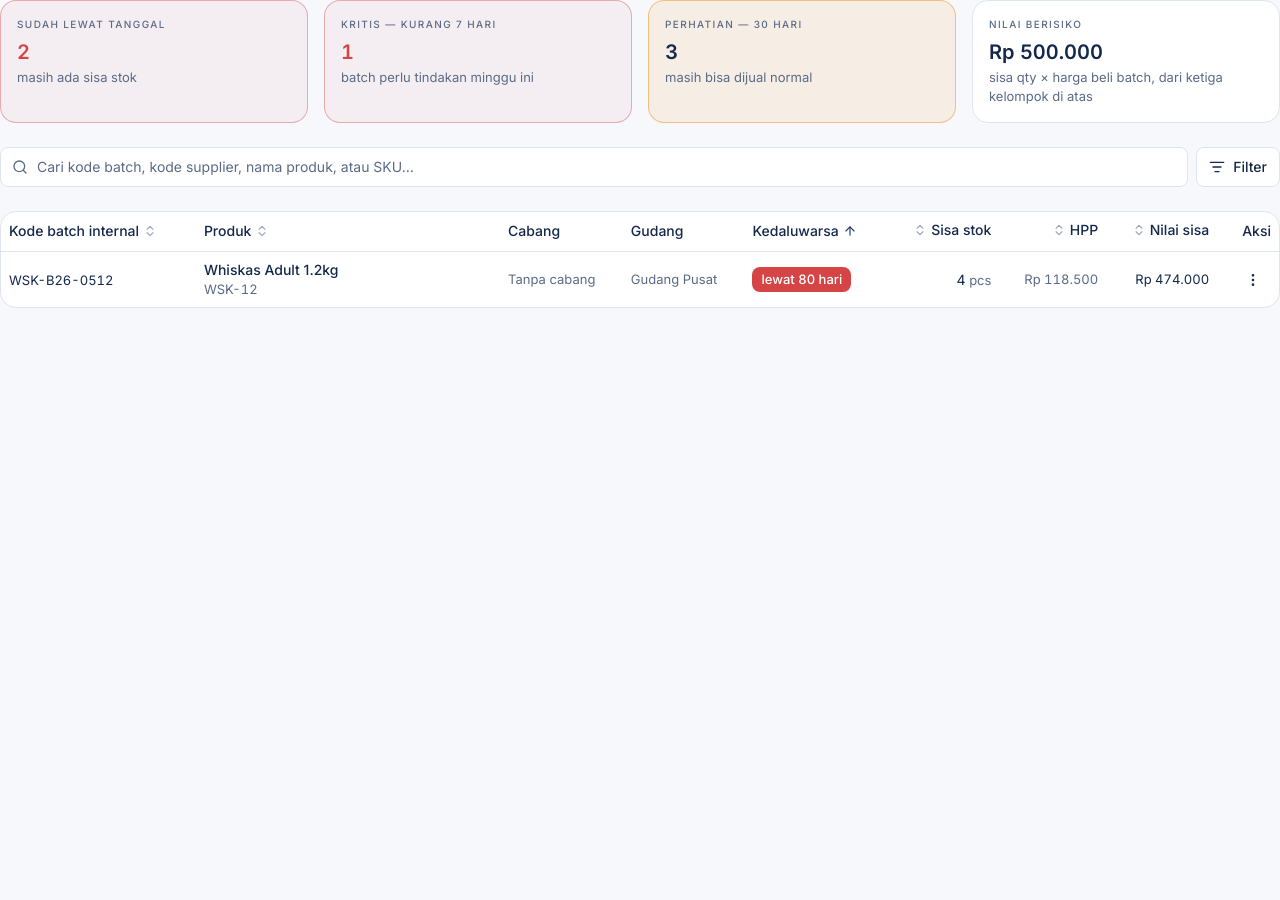
Test: BatchesScreen › the custom expiry range › says so rather than pretending an empty window narrowed anything
Click the button "Filter" at x=1238, y=167, box [1196, 147, 1279, 187]
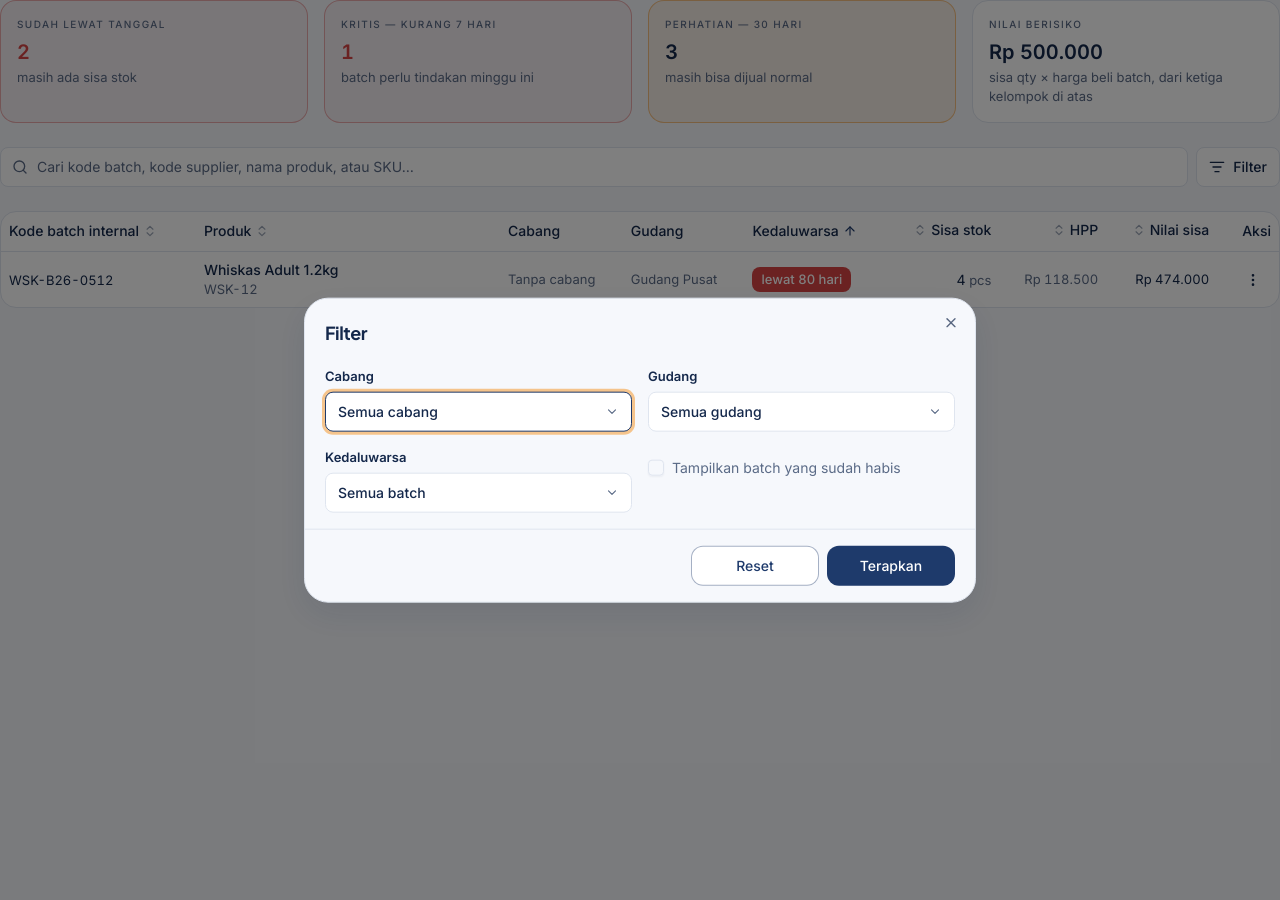
Click the button with aria-label "Rentang kedaluwarsa" at x=382, y=492, box [325, 472, 632, 512]
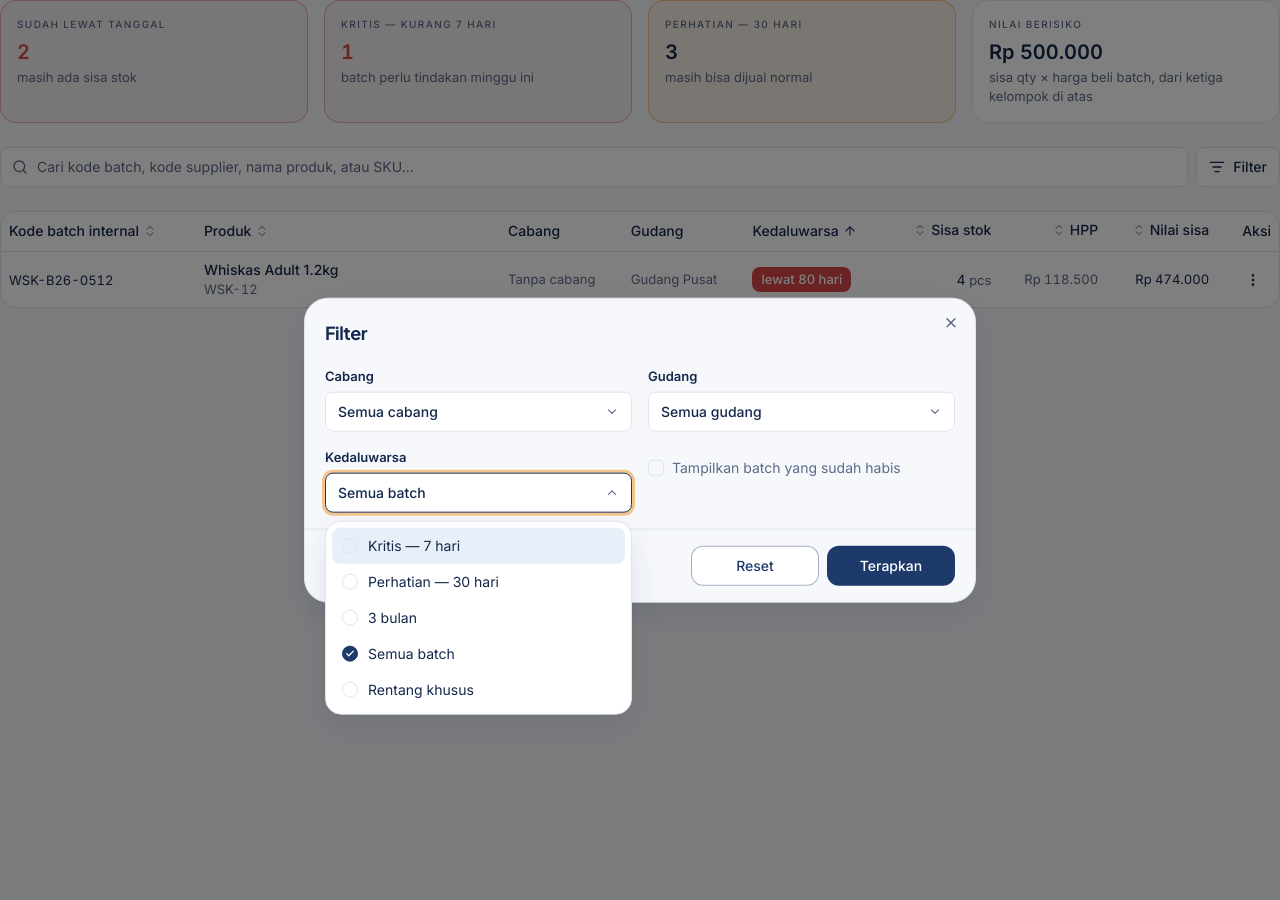
Click the option "Rentang khusus" at x=408, y=689, box [342, 681, 474, 698]
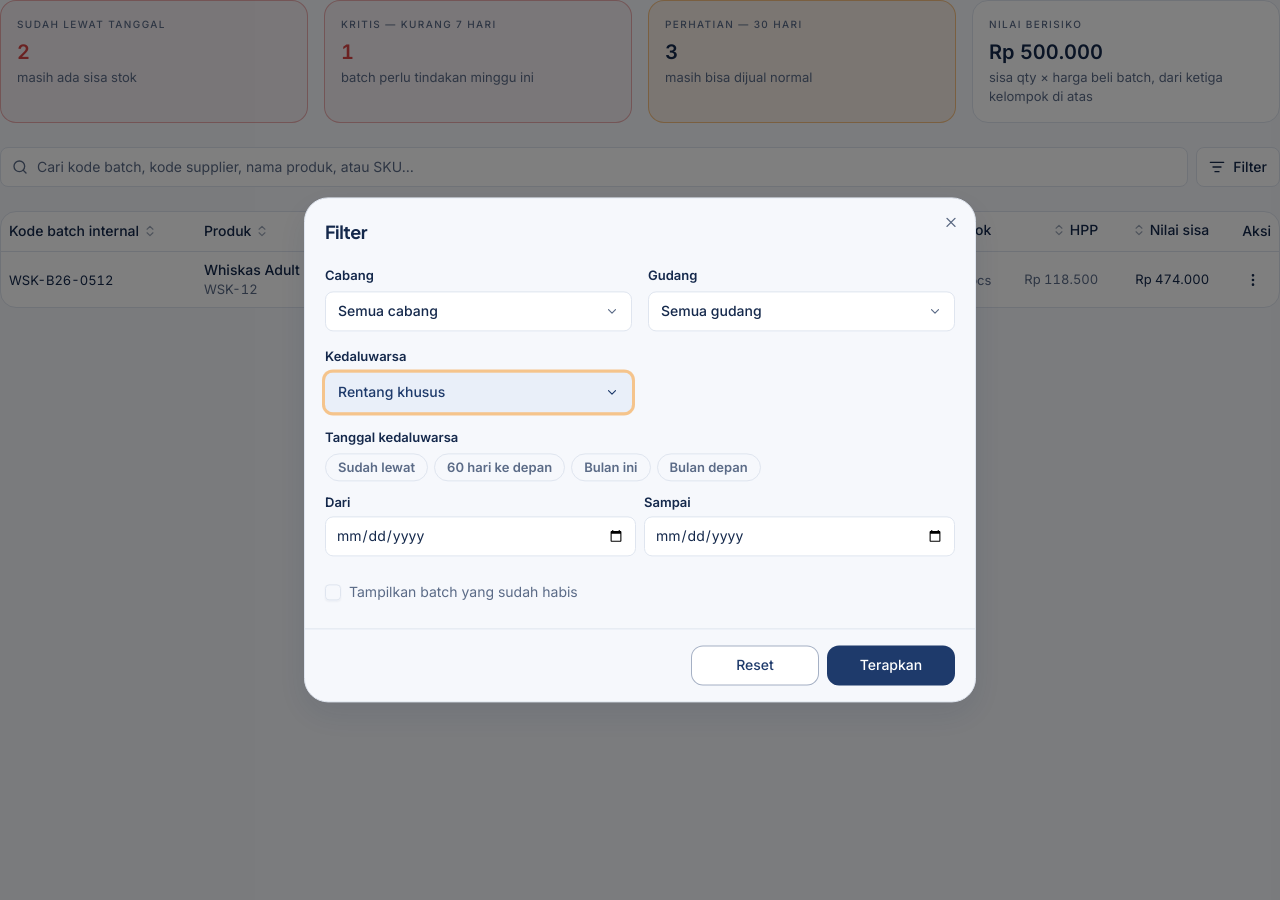
Click the button "Terapkan" at x=891, y=666, box [827, 646, 955, 686]
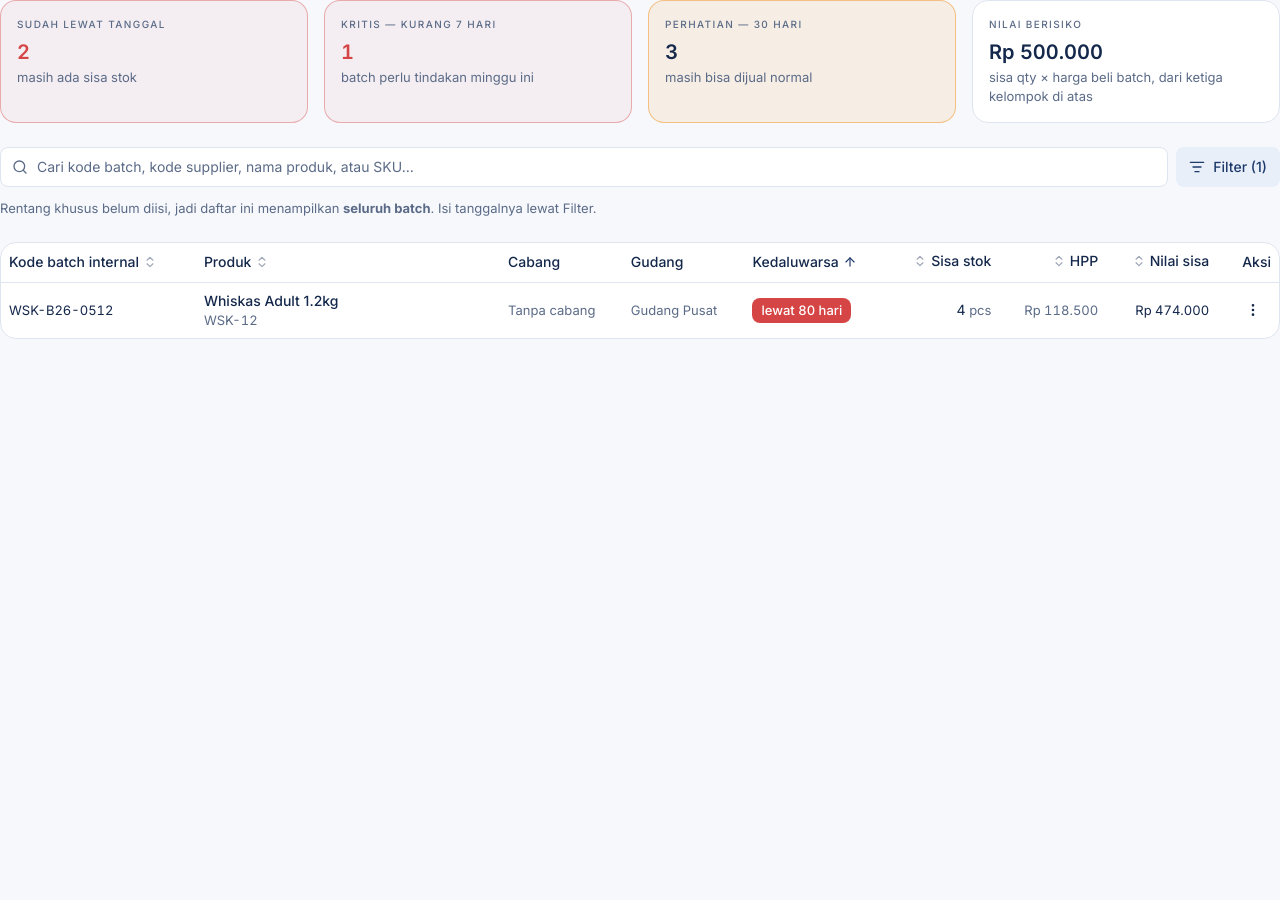
Expected: the text "Rentang khusus belum diisi" is shown, [0, 200, 339, 216]
